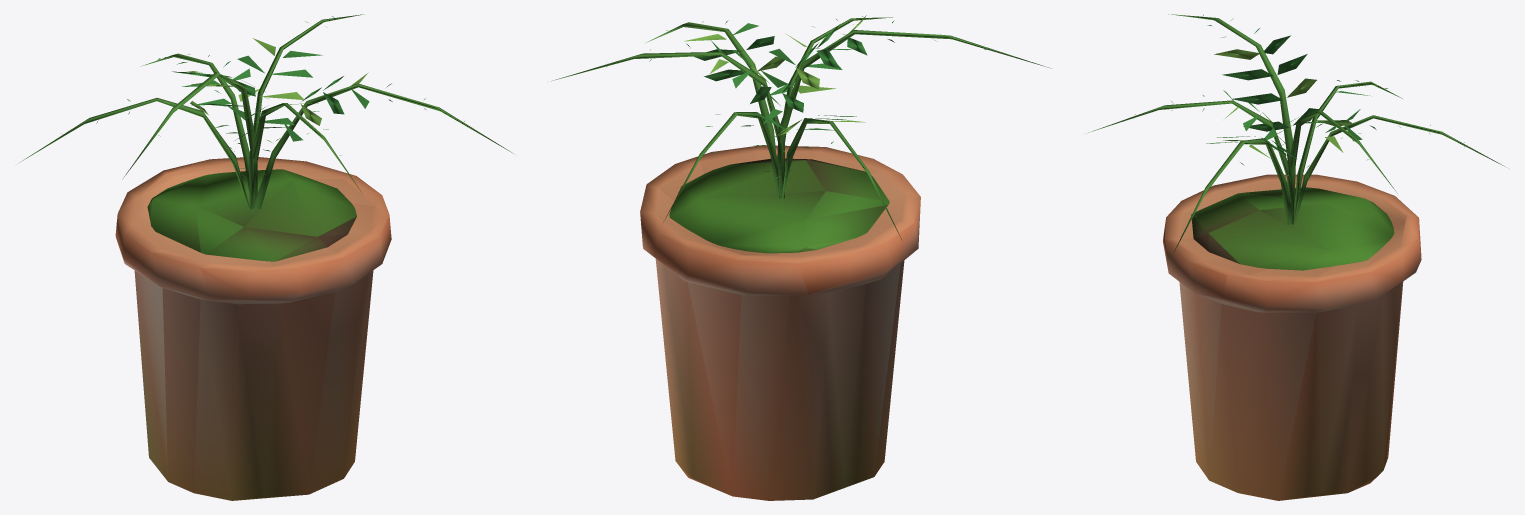
Rendered from canopy_pot_plant_b_lod2.glb.
The picture shows the model from 3 angles, left to right: view 1: azimuth 30°, elevation 25°; view 2: azimuth 150°, elevation 25°; view 3: azimuth 270°, elevation 25°; orthographic projection. The views are drawn at different scales.
Parts seen in each view (by area): view 1: canopy_pot_plant_b.001; view 2: canopy_pot_plant_b.001; view 3: canopy_pot_plant_b.001.
Boxes of the visible parts, x1,y1,x2,y2 form: canopy_pot_plant_b.001: (18,14,513,500); canopy_pot_plant_b.001: (551,15,1050,500); canopy_pot_plant_b.001: (1088,14,1506,500).
Bounding box in the file's own units: 5.38 × 5.36 × 5.3.
